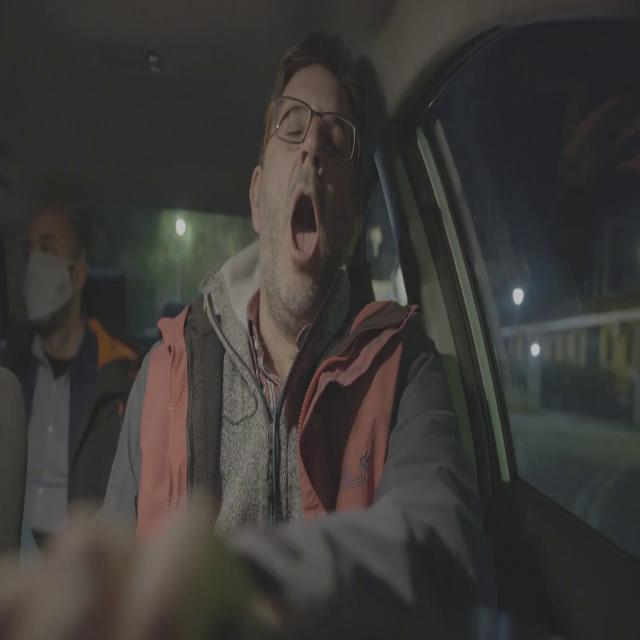open-mouth: (287, 181, 320, 271)
